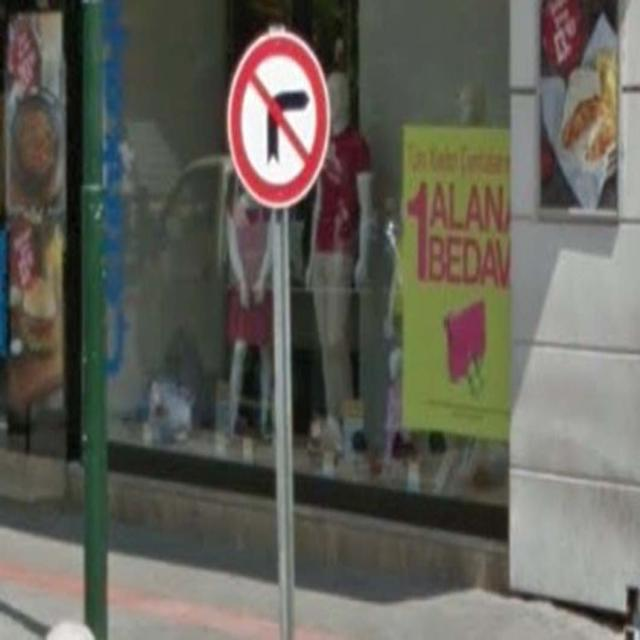sagadonulmez: (225, 31, 328, 207)
